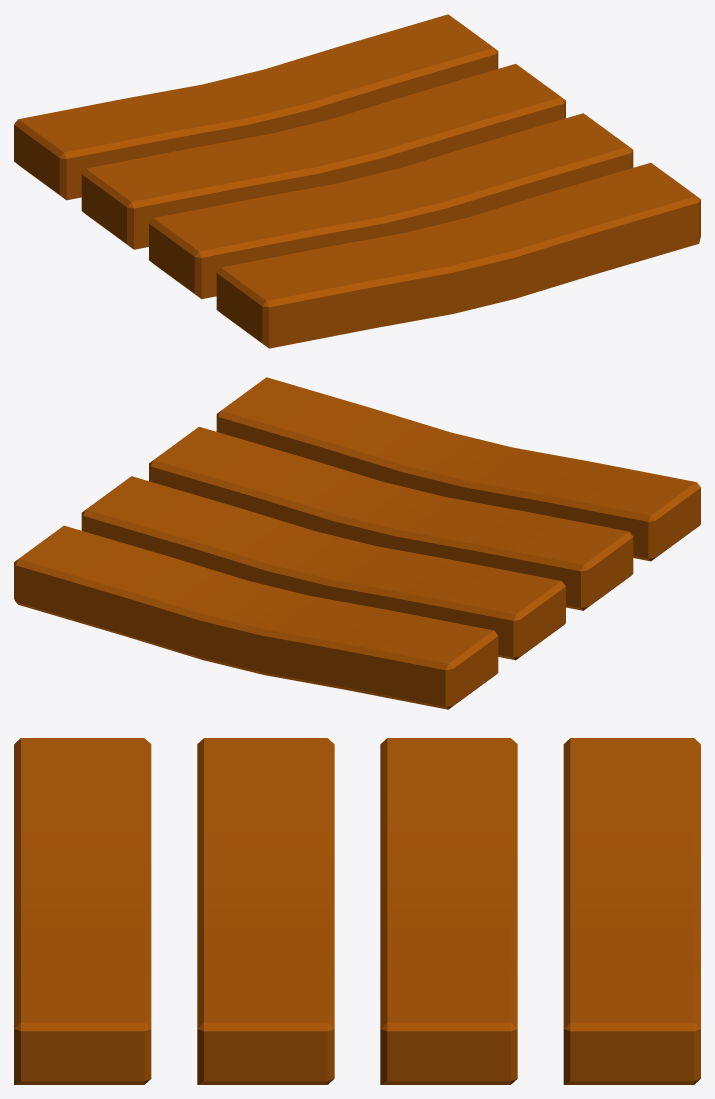
File: Bridge.fbx
3 renders of one model, top to bottom at view 1: azimuth 30°, elevation 25°; view 2: azimuth 150°, elevation 25°; view 3: azimuth 270°, elevation 25°, orthographic. The views are drawn at different scales.
Parts seen in each view (by area): view 1: Bridge; view 2: Bridge; view 3: Bridge.
Boxes of the visible parts, <box> form: Bridge: <box>14,14,700,348</box>; Bridge: <box>14,377,700,709</box>; Bridge: <box>14,738,700,1084</box>.
Size of the model in its own units: 100 by 100 by 12.23.
